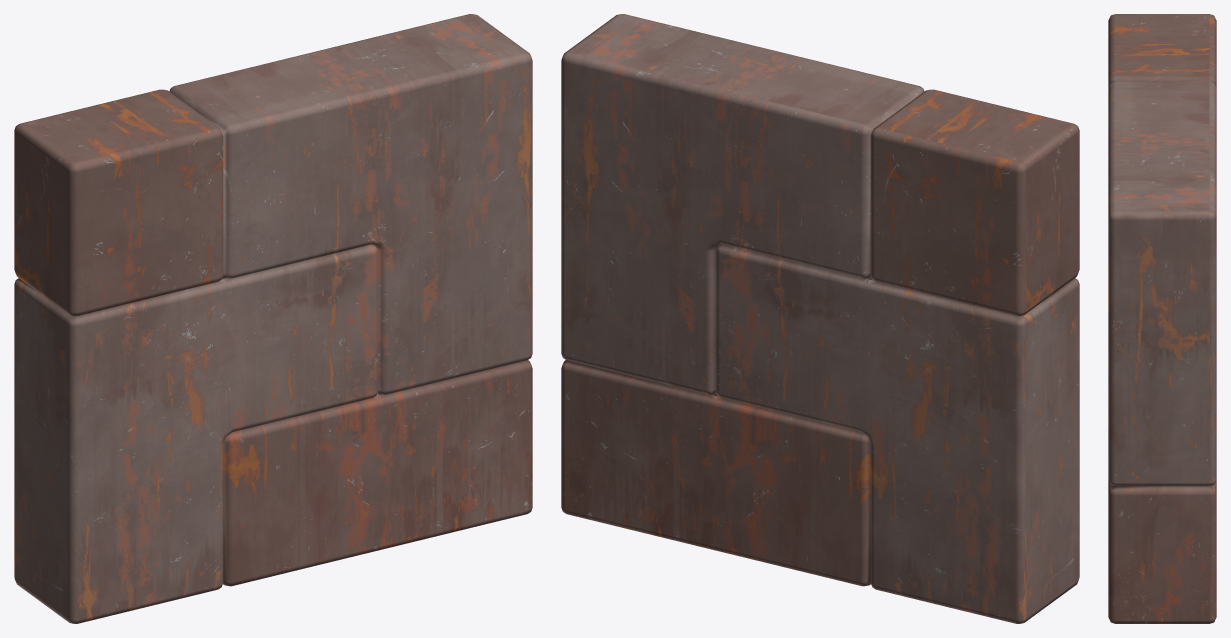
File: wall_009.fbx
3 renders of one model, left to right at view 1: azimuth 30°, elevation 25°; view 2: azimuth 150°, elevation 25°; view 3: azimuth 270°, elevation 25°, orthographic. The views are drawn at different scales.
Visible parts, largest first — view 1: wall_009; view 2: wall_009; view 3: wall_009.
Boxes of the visible parts, <box> form: wall_009: <box>14,14,532,623</box>; wall_009: <box>561,14,1079,623</box>; wall_009: <box>1108,14,1216,623</box>.
Size of the model in its own units: 6638 by 1500 by 6310.
